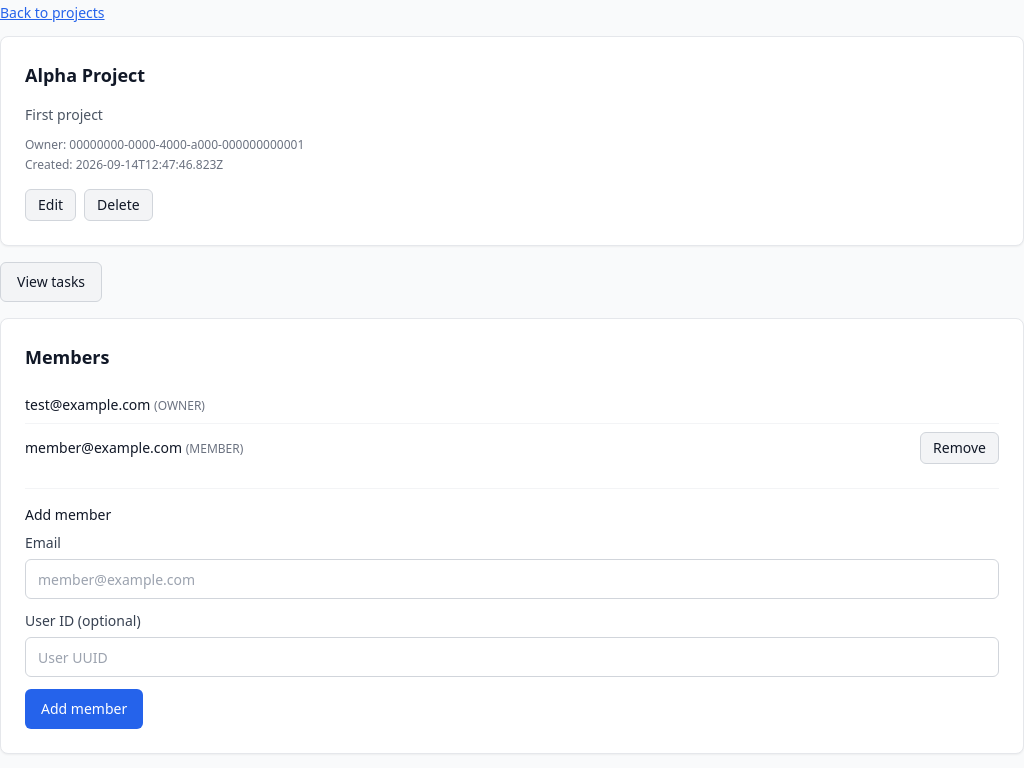
Scenario: Project create/edit validation + delete confirmation (behavior) › delete requires explicit confirmation showing the project name, then redirects (behavior)
The width and height of the screenshot is (1024, 768).
Check: the heading "Alpha Project" is shown, box x1=25 y1=63 x2=145 y2=87
What coordinates should you click on to do the following:
click the button "Delete"
I would click on:
 (118, 205)
Its box is x1=84 y1=189 x2=153 y2=221.
(page scrolled)
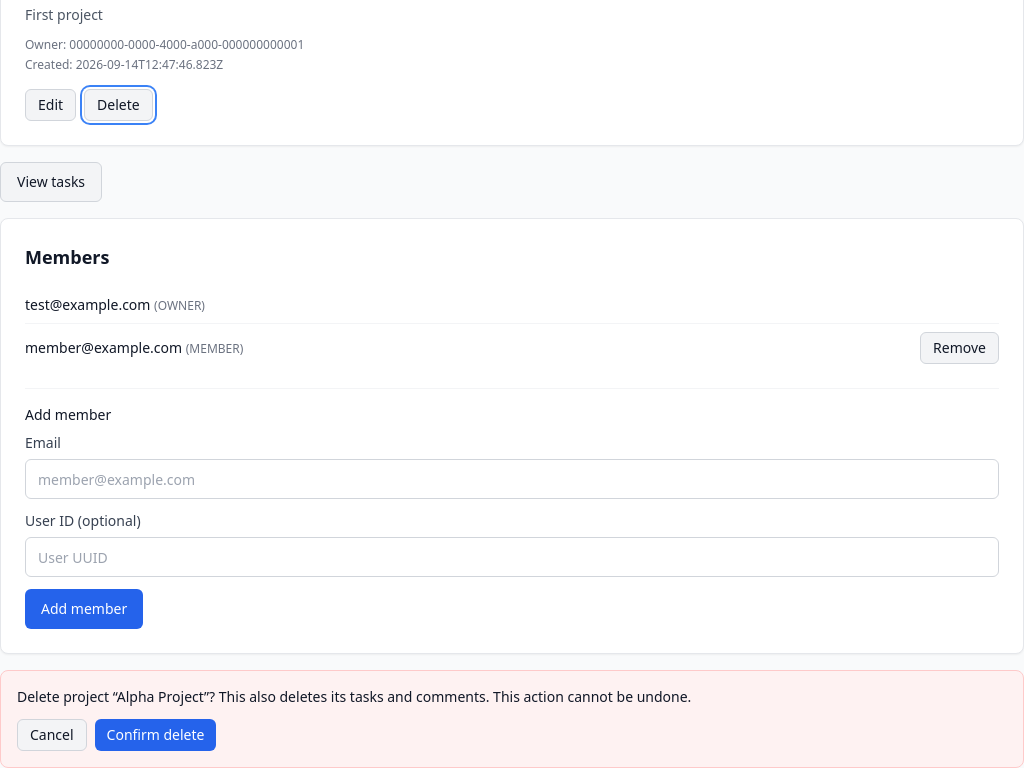
Check: the dialog shows "Alpha Project", box x1=117 y1=687 x2=204 y2=706
What coordinates should you click on to do the following:
click the button "Confirm delete"
I would click on:
 (156, 735)
Its box is x1=95 y1=719 x2=216 y2=751.
(page scrolled)
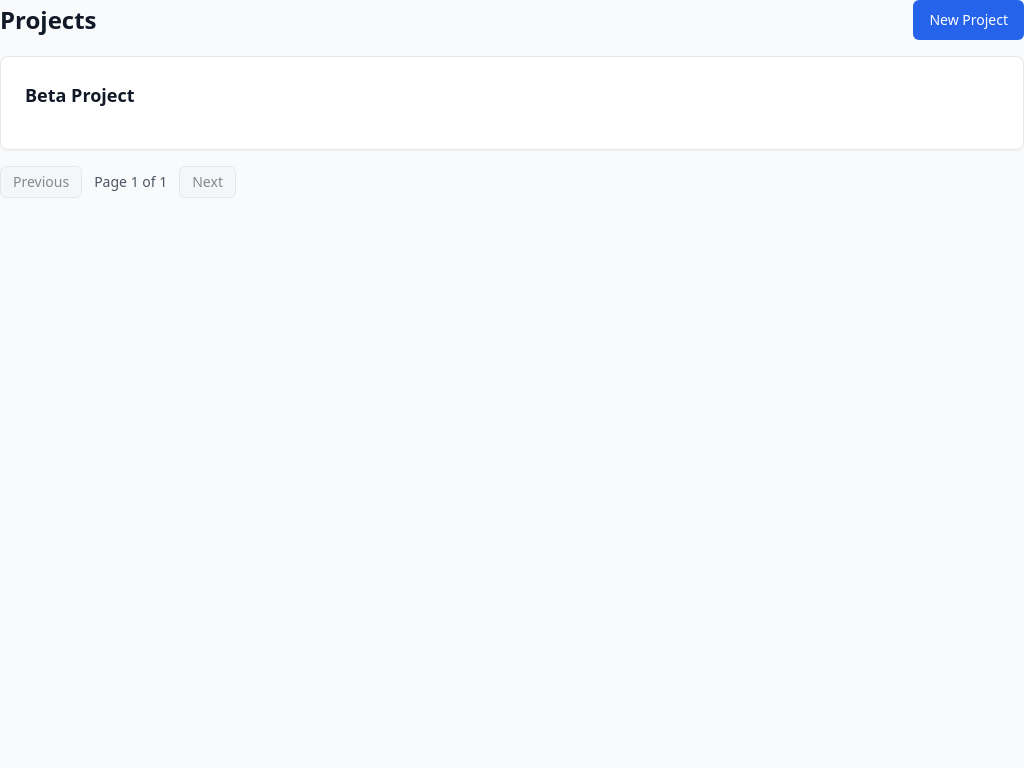
Check: the dialog is gone
Check: the link "Beta Project" is shown, box x1=25 y1=83 x2=135 y2=107
